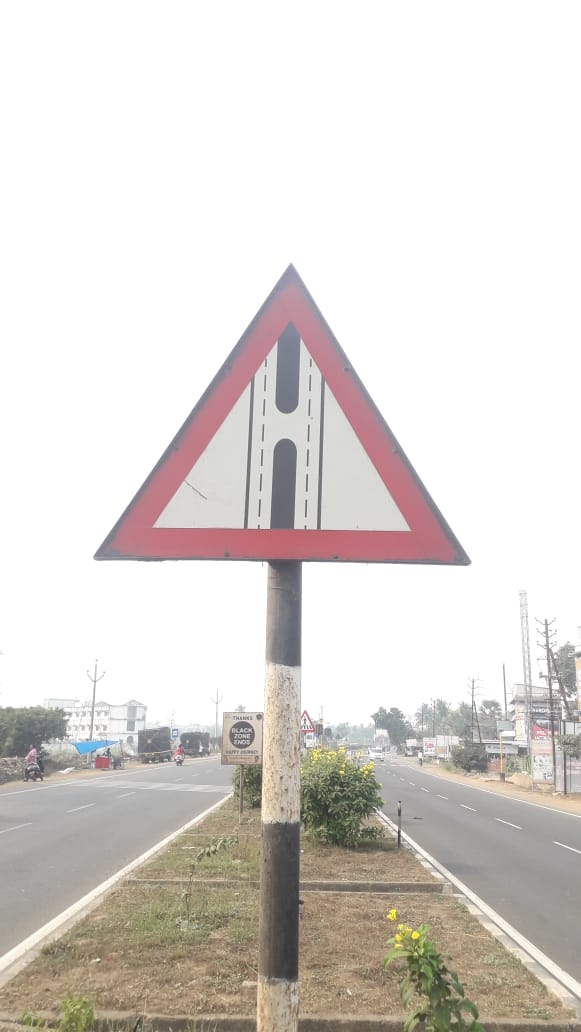highway go straight: (56, 251, 496, 614)
